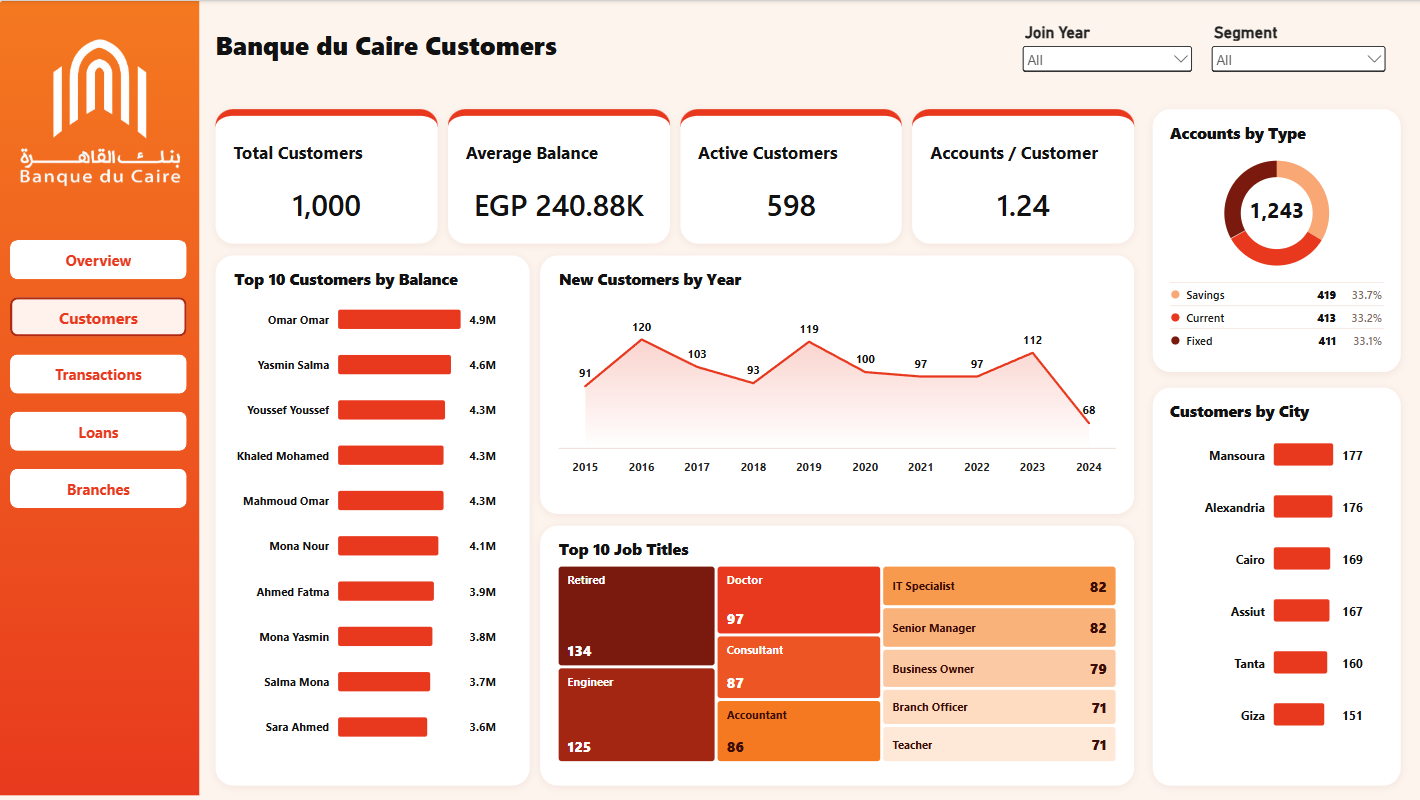

This screenshot's page, from the dashboard's own definition file:
{"tool":"powerbi","page":{"name":"Customers","canvas":[1920,1080],"ordinal":2},"visuals":[{"type":"htmlContent443BE3AD55E043BF878BED274D3A6855","fields":{"content":["Html.HTML Banque Customers2"]},"box":[0,0,1920,1080],"z":0},{"type":"slicer","fields":{"Values":["Customers Dim.Segment"]},"box":[1628.9,31.1,244.4,88.9],"z":1000},{"type":"image","box":[38.4,0,195,240.5],"z":2000},{"type":"image","box":[0,162.5,255,131.2],"z":3000},{"type":"slicer","fields":{"Values":["Customers Dim.Join Year"]},"box":[1374.9,31,238.4,103.7],"z":4000},{"type":"pageNavigator","box":[16.7,323.3,238.9,361.1],"z":5000}]}

Visuals, with their boxes in screenshot pixels (x1, y1, x2, y2), scaled from the page's 1920x1080 canvas onto the 1420x800 screenshot:
htmlContent443BE3AD55E043BF878BED274D3A6855 - Html.HTML Banque Customers2: [0, 0, 1419, 799]
slicer - Customers Dim.Segment: [1205, 23, 1385, 89]
image: [28, 0, 173, 178]
image: [0, 120, 189, 218]
slicer - Customers Dim.Join Year: [1017, 23, 1193, 100]
pageNavigator: [12, 239, 189, 507]
